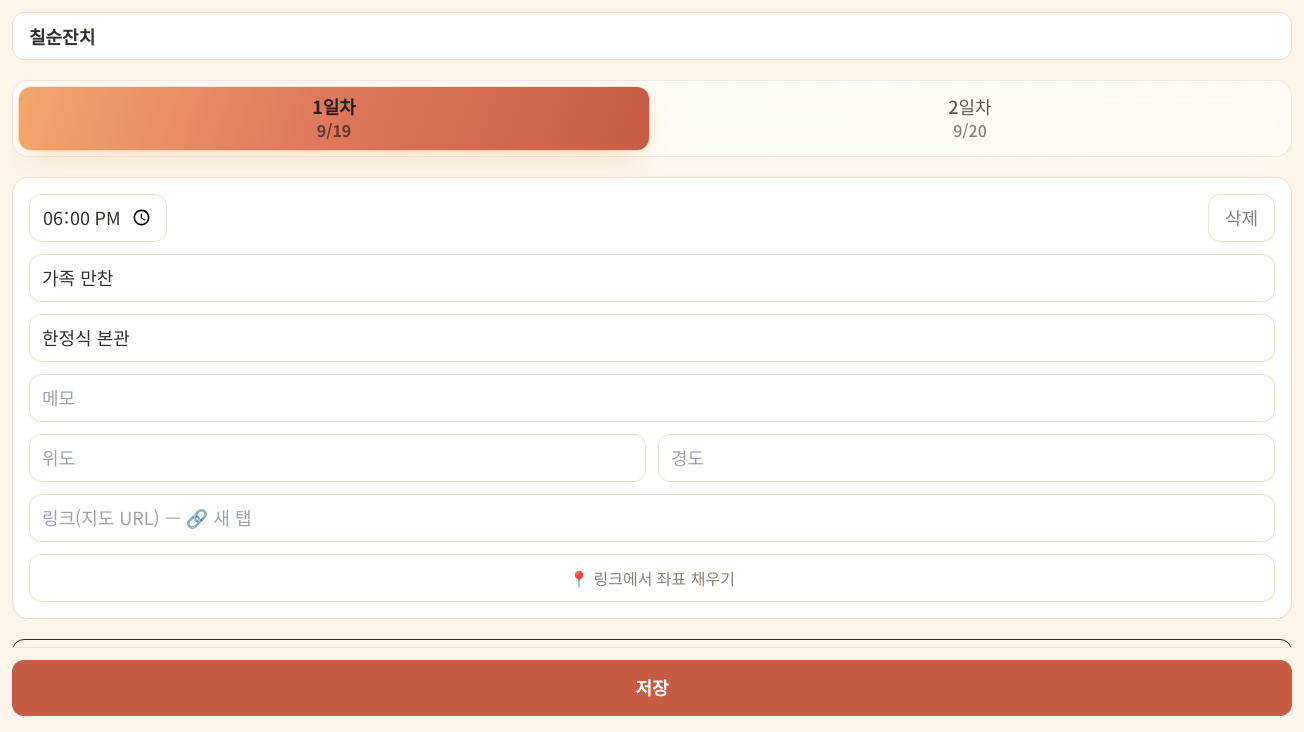
it: AdminForm › 행사 제목(맨 위 title)을 수정하면 저장 payload 에 포함된다
Replace the text in the field named "행사 제목" with "조인수 · 김인숙 부부 칠순잔치" at (652, 36), box [12,12,1292,60]
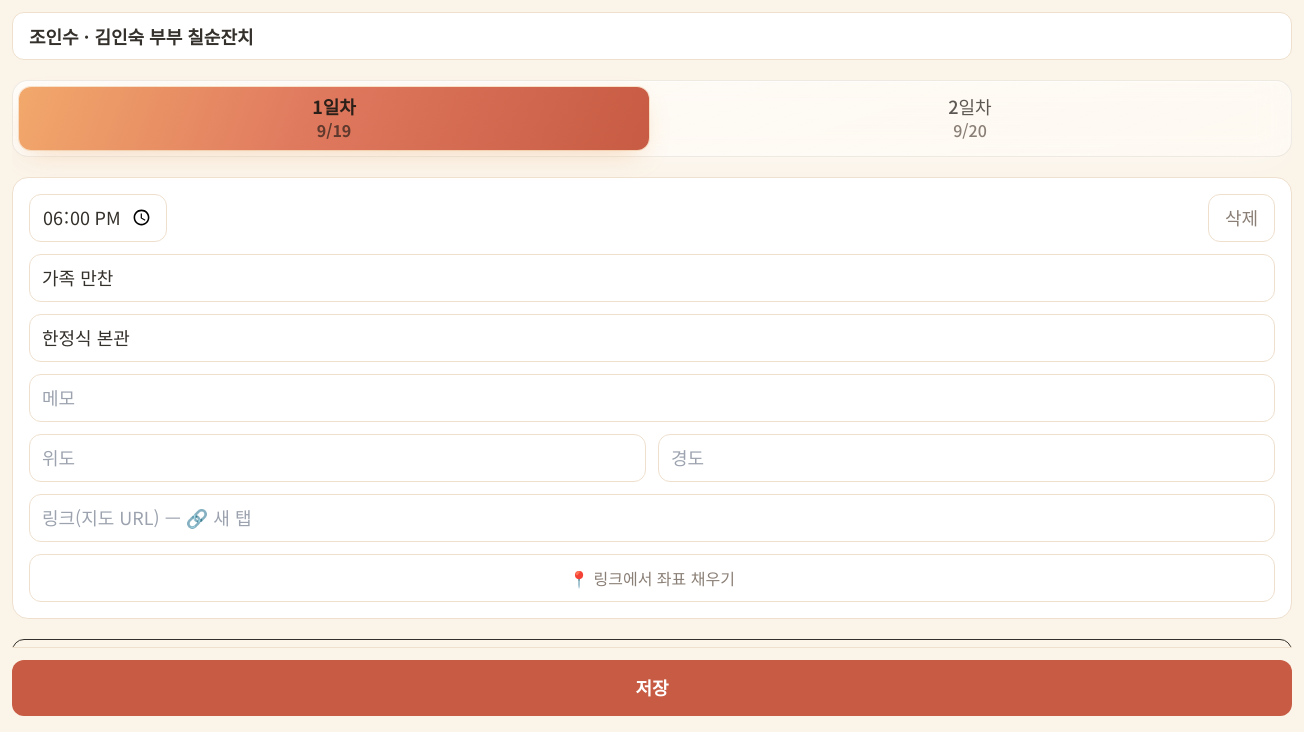
Click the button "저장" at (652, 688), box [12,660,1292,716]
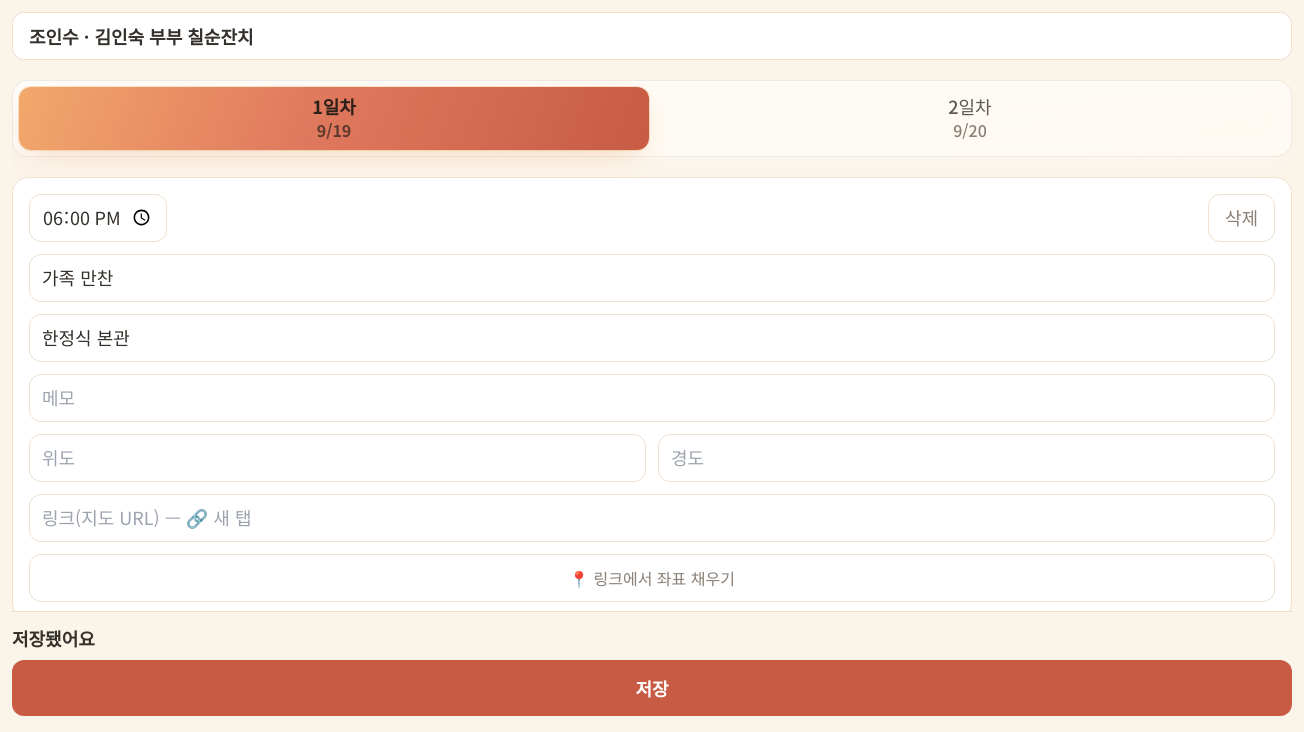
Now the text "저장됐어요" is shown, box [12,624,95,650]
